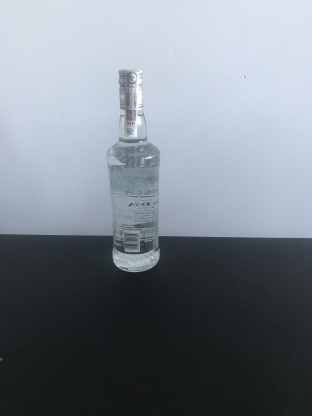nakretka: (116, 65, 146, 112)
